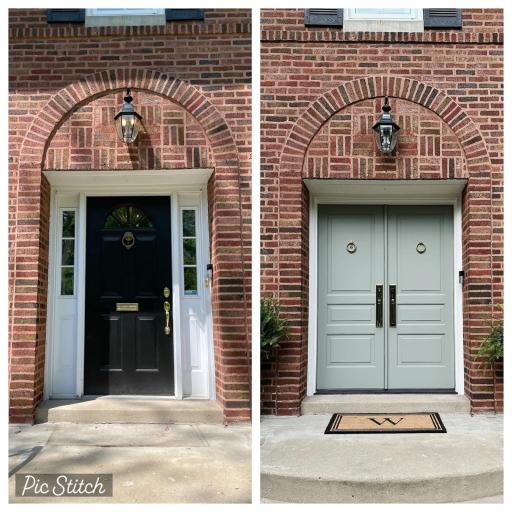door: (49, 189, 212, 412), (302, 188, 472, 399)
